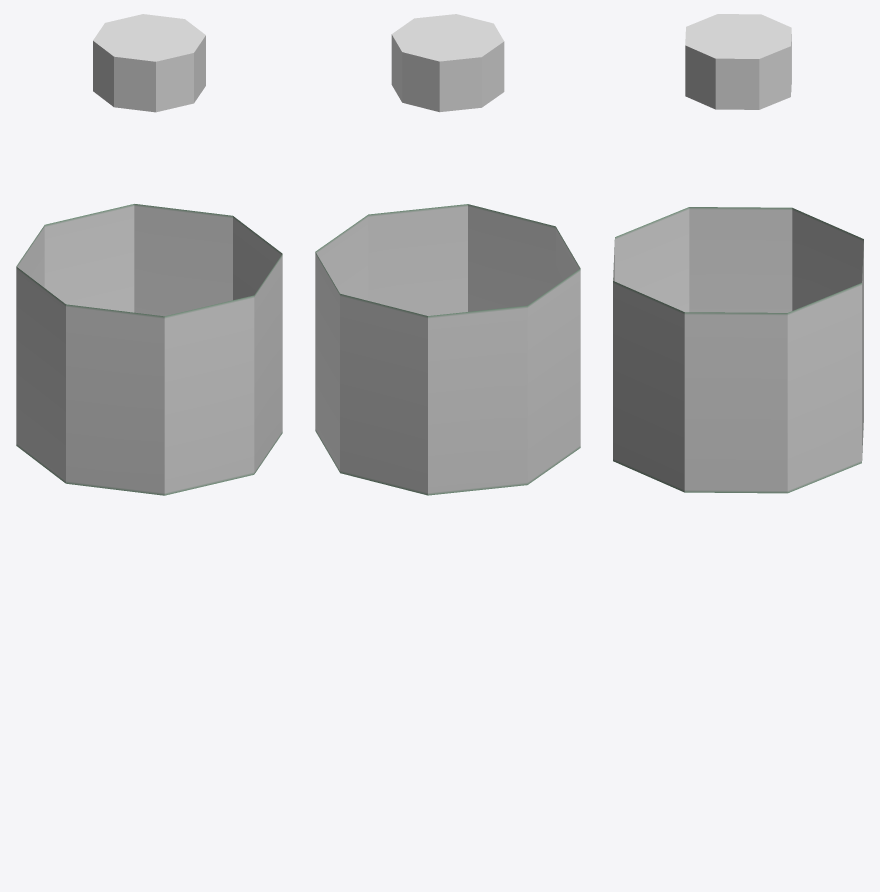
The model's file is Bottle01.FBX.
The picture shows the model from 3 angles, left to right: view 1: azimuth 30°, elevation 25°; view 2: azimuth 150°, elevation 25°; view 3: azimuth 270°, elevation 25°; orthographic projection.
Visible parts, largest first — view 1: Bottle01; view 2: Bottle01; view 3: Bottle01.
Boxes of the visible parts, x1,y1,x2,y2 form: Bottle01: [16, 14, 282, 495]; Bottle01: [315, 14, 580, 495]; Bottle01: [613, 14, 863, 493].
Bounding box in the file's own units: 25.02 × 25.02 × 85.63.
